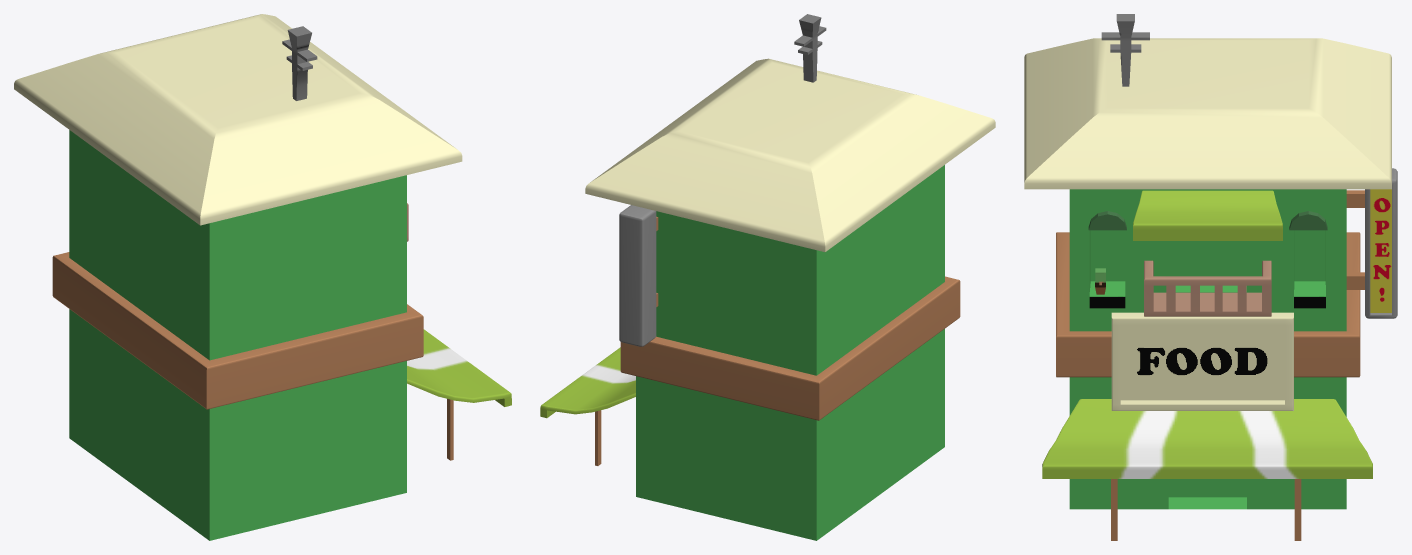
File: BuildingShort_04.fbx
3 renders of one model, left to right at view 1: azimuth 30°, elevation 25°; view 2: azimuth 150°, elevation 25°; view 3: azimuth 270°, elevation 25°, orthographic. The views are drawn at different scales.
Parts seen in each view (by area): view 1: polySurface723; view 2: polySurface723; view 3: polySurface723.
Part boxes in pixels (<box>): polySurface723: <box>14,14,511,540</box>; polySurface723: <box>540,14,995,540</box>; polySurface723: <box>1024,14,1397,540</box>.
Size of the model in its own units: 4.91 by 6.72 by 5.01.
Materials: 1 (1 with a texture image).
